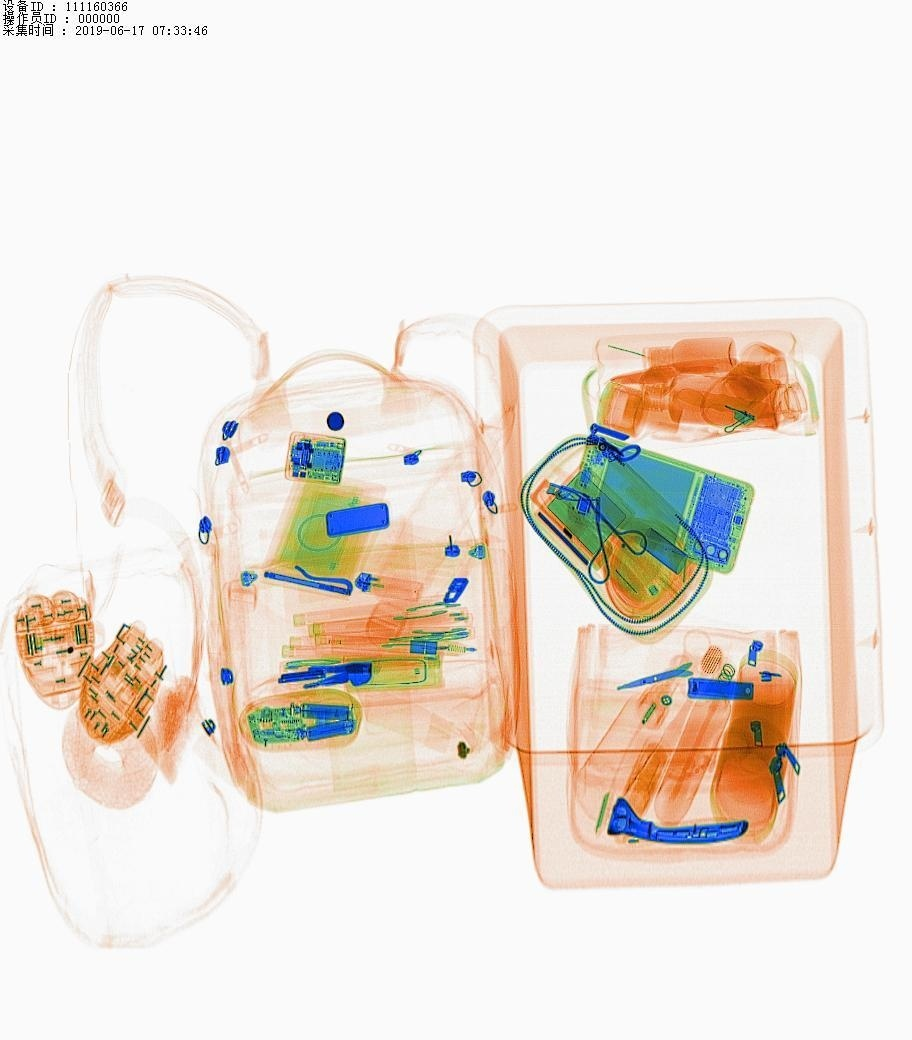NonmetallicFire: (341, 562, 436, 615)
